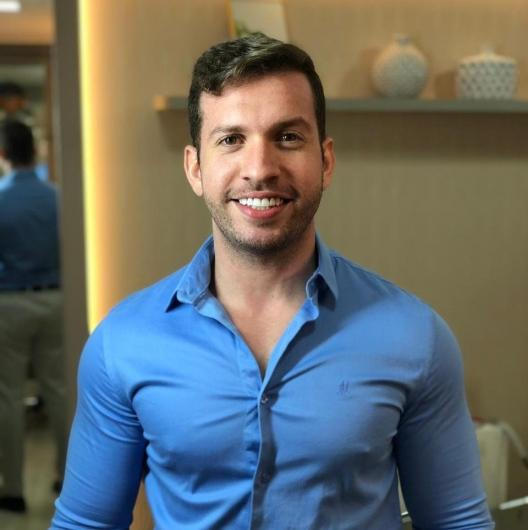not_helmet: (176, 26, 341, 264)
not_reflective: (46, 233, 501, 530)
